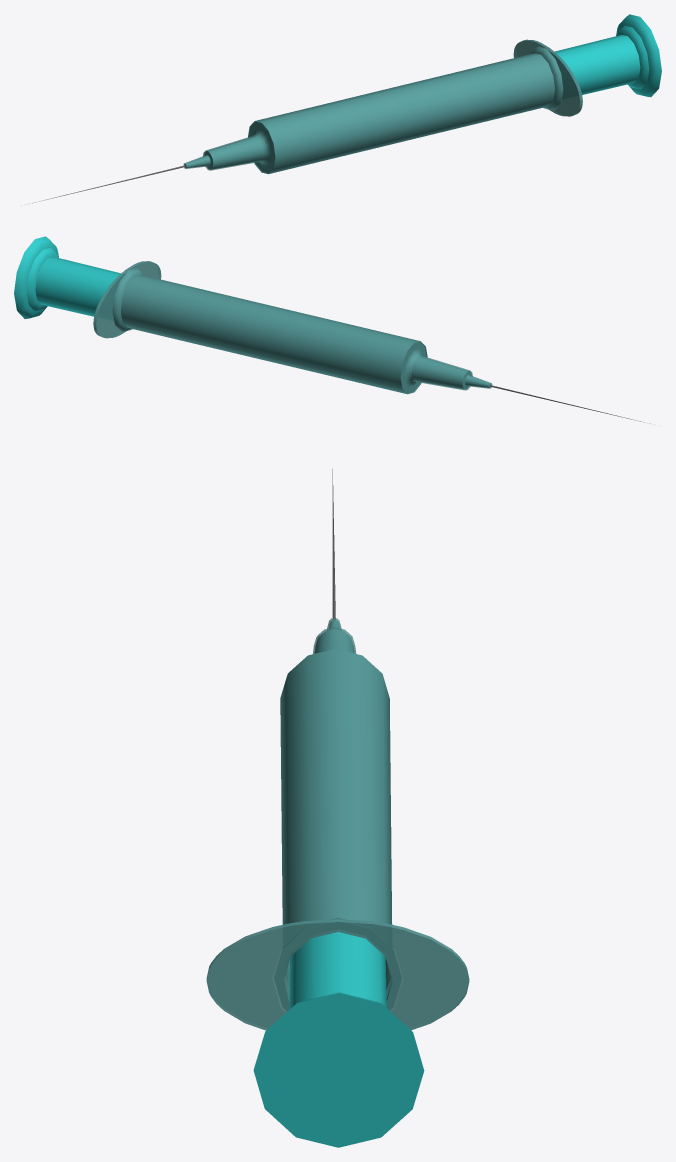
The model's file is Syringe.FBX.
3 renders of one model, top to bottom at view 1: azimuth 30°, elevation 25°; view 2: azimuth 150°, elevation 25°; view 3: azimuth 270°, elevation 25°, orthographic. The views are drawn at different scales.
Parts seen in each view (by area): view 1: sy_Shape_1; view 2: sy_Shape_1; view 3: sy_Shape_1.
Part boxes in pixels (box(x1,y1,x2,y2)): sy_Shape_1: box(25, 14, 661, 204); sy_Shape_1: box(14, 236, 650, 423); sy_Shape_1: box(206, 469, 469, 1147).
Bounding box in the file's own units: 34.75 × 4.11 × 6.32.
